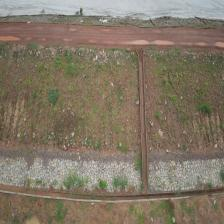rock_toe: (0, 152, 142, 194), (148, 154, 224, 193)
slope_drain: (136, 49, 148, 194)
